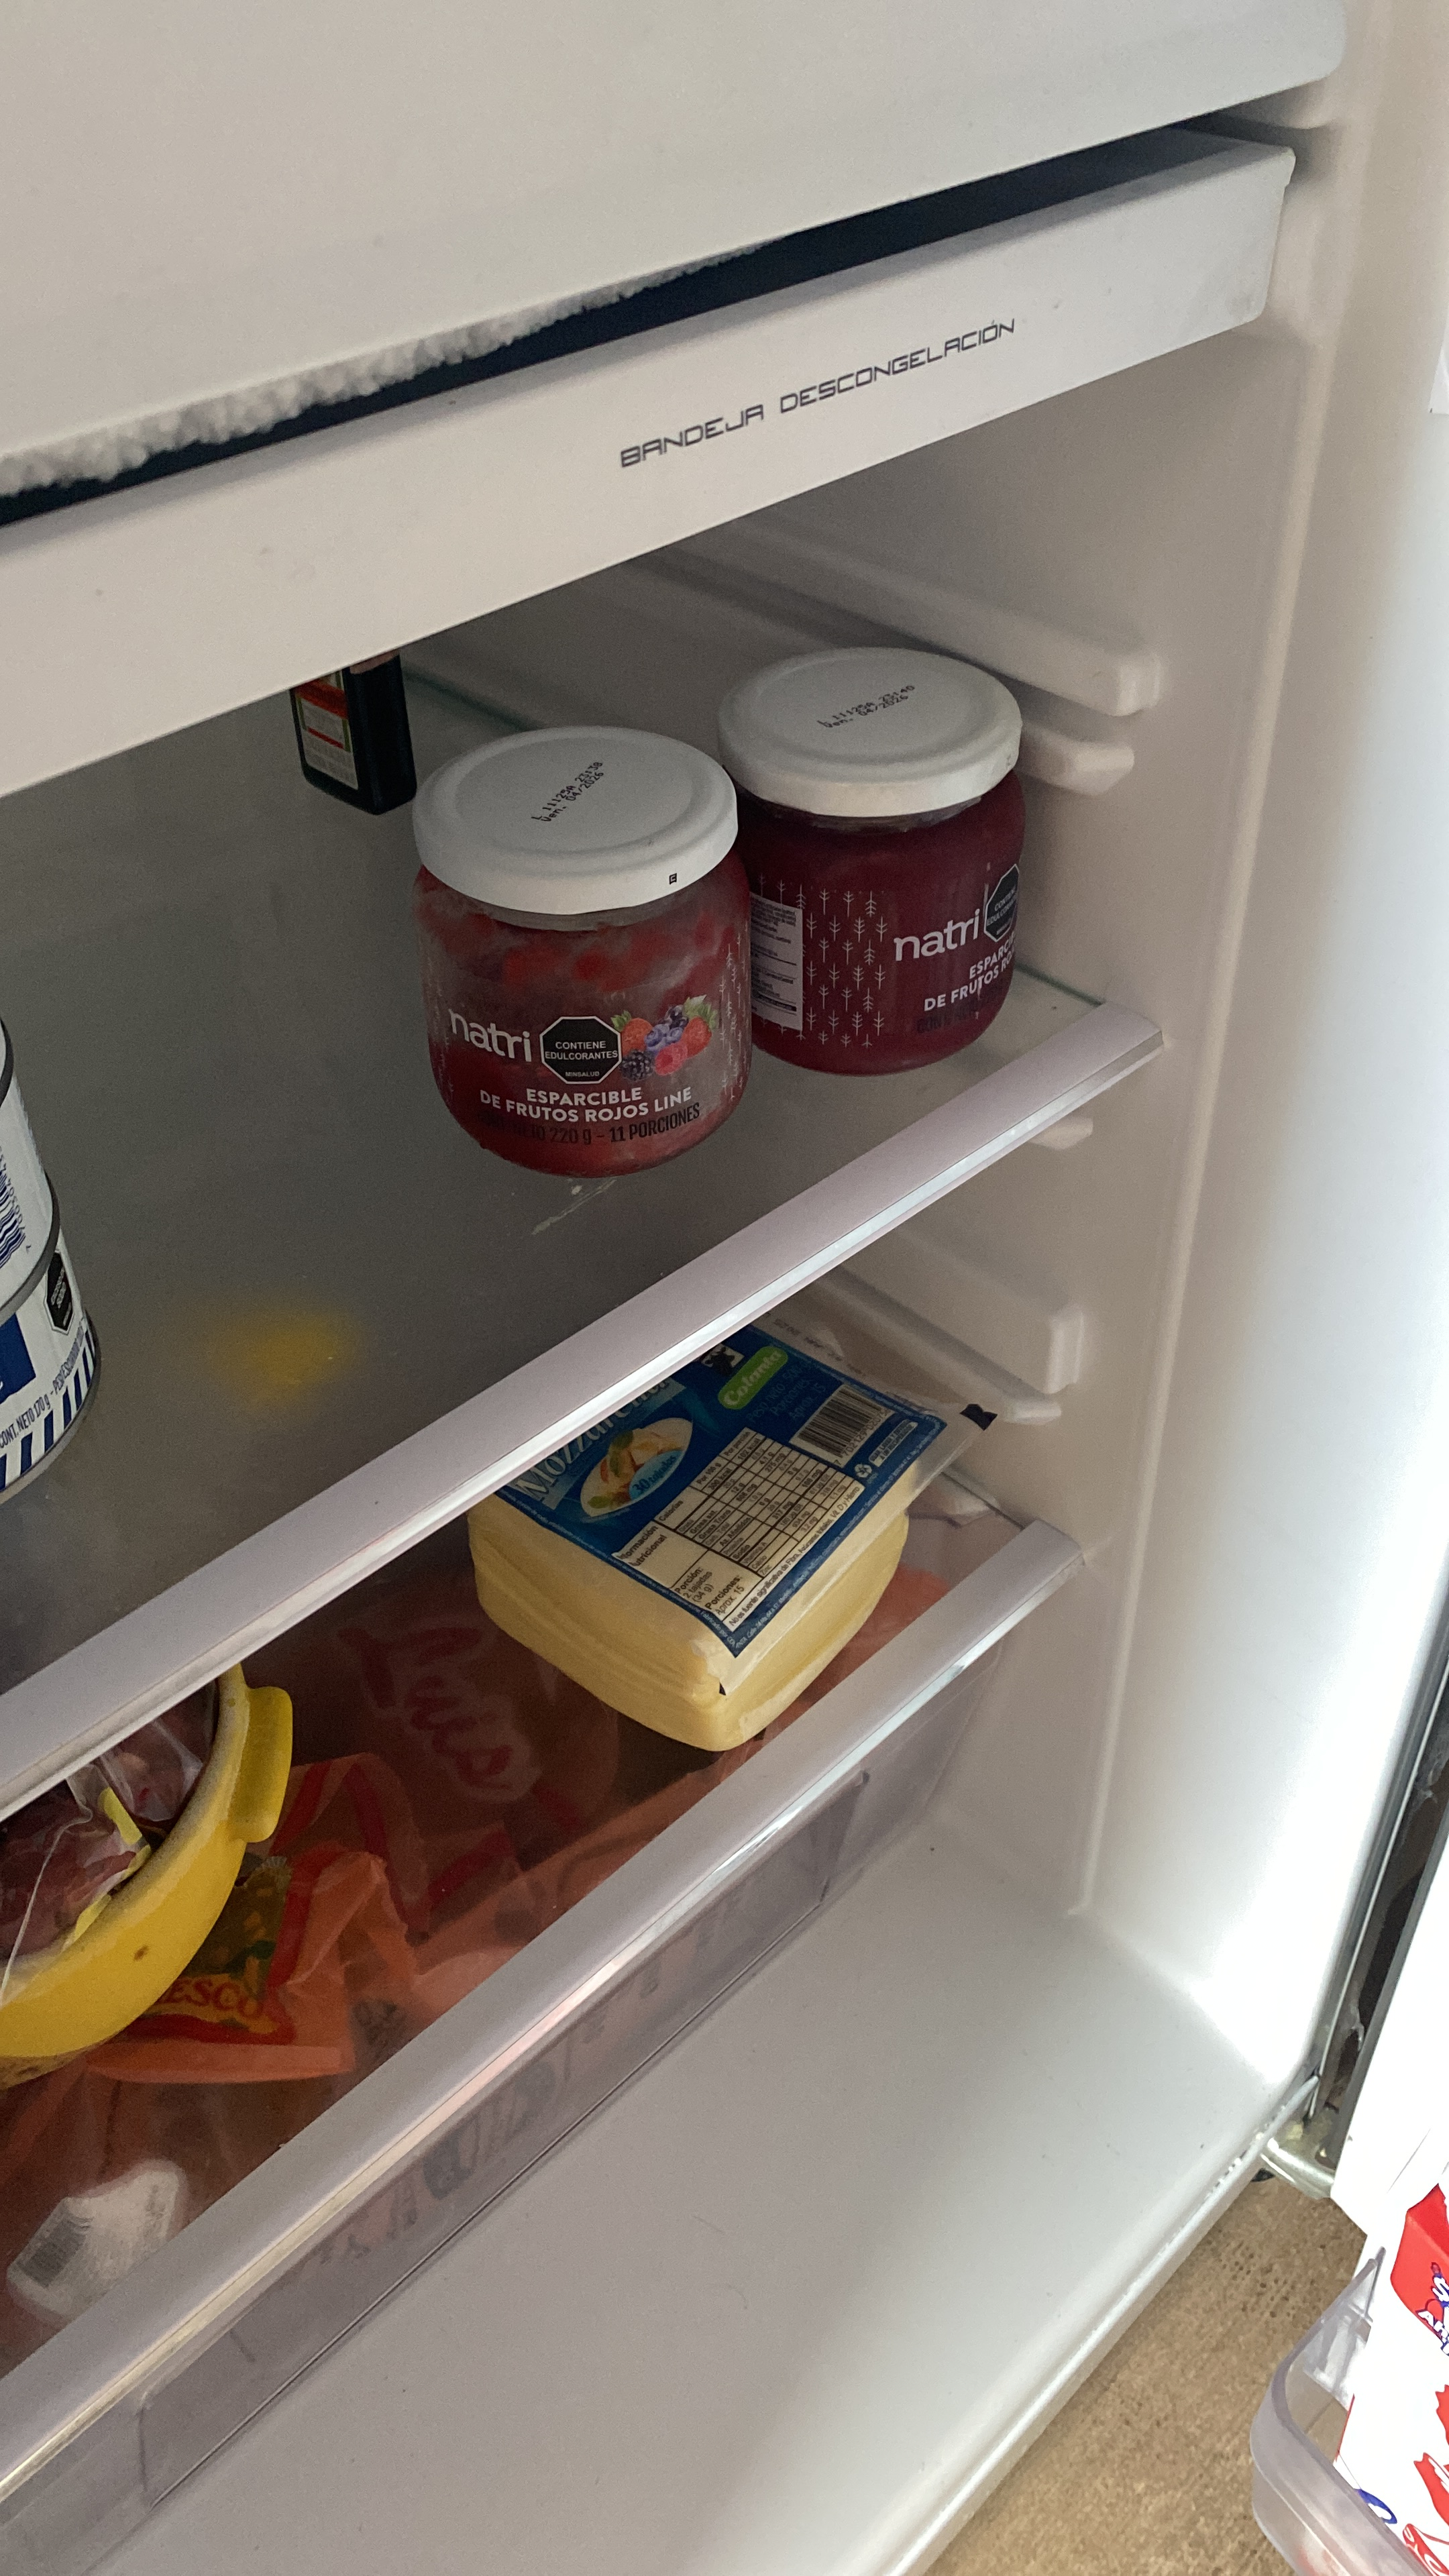Mermelada: (384, 697, 766, 1196), (690, 626, 1049, 1090)
